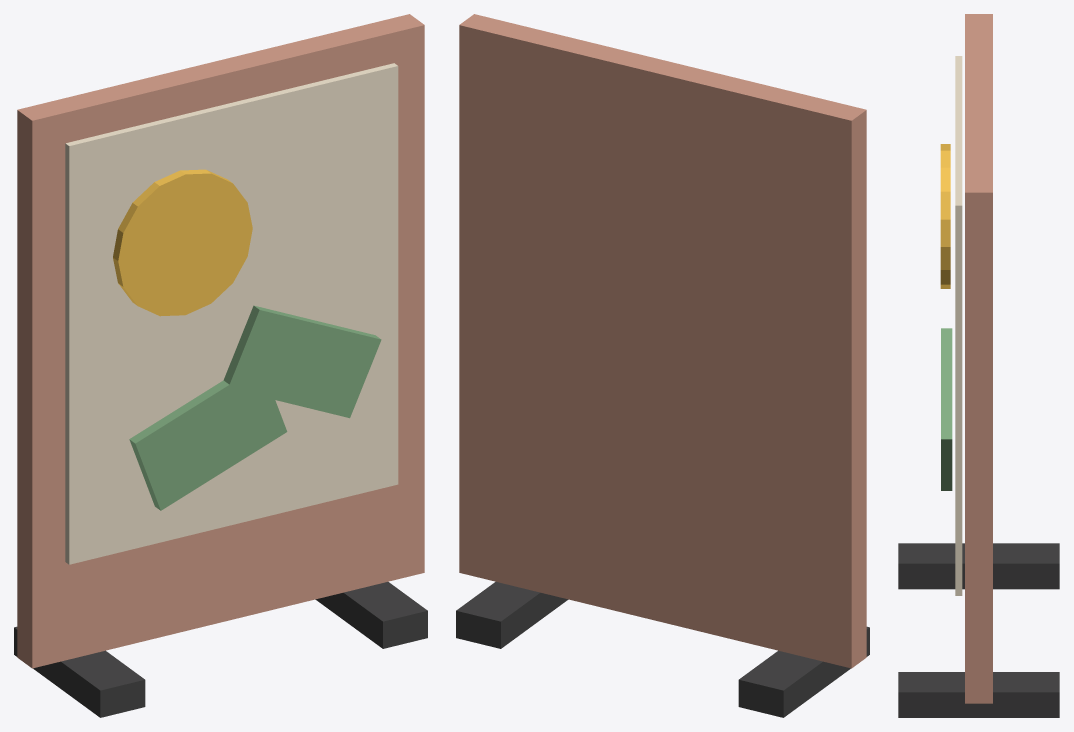
The picture shows the model from 3 angles, left to right: view 1: azimuth 30°, elevation 25°; view 2: azimuth 150°, elevation 25°; view 3: azimuth 270°, elevation 25°; orthographic projection. The views are drawn at different scales.
Visible parts, largest first — view 1: Gallery canvas, Panel, Relief circle, Raised geometric stroke, Raised geometric stroke.001, Panel foot, Panel foot.001; view 2: Panel, Panel foot, Panel foot.001; view 3: Panel, Panel foot.001, Panel foot, Gallery canvas, Raised geometric stroke, Relief circle.
Part boxes in pixels (x1,y1,x2,y2): Gallery canvas: [65, 63, 398, 564]; Panel: [17, 14, 424, 668]; Relief circle: [113, 169, 252, 316]; Raised geometric stroke: [223, 305, 381, 418]; Raised geometric stroke.001: [129, 380, 287, 510]; Panel foot: [14, 626, 145, 717]; Panel foot.001: [315, 582, 427, 648]; Panel: [459, 14, 866, 668]; Panel foot: [738, 626, 869, 717]; Panel foot.001: [456, 582, 568, 648]; Panel: [965, 14, 992, 703]; Panel foot.001: [898, 672, 1059, 717]; Panel foot: [898, 543, 1059, 589]; Gallery canvas: [955, 56, 962, 595]; Raised geometric stroke: [941, 328, 952, 490]; Relief circle: [940, 144, 950, 288].
Bounding box in the file's own units: 105 × 148 × 40.
